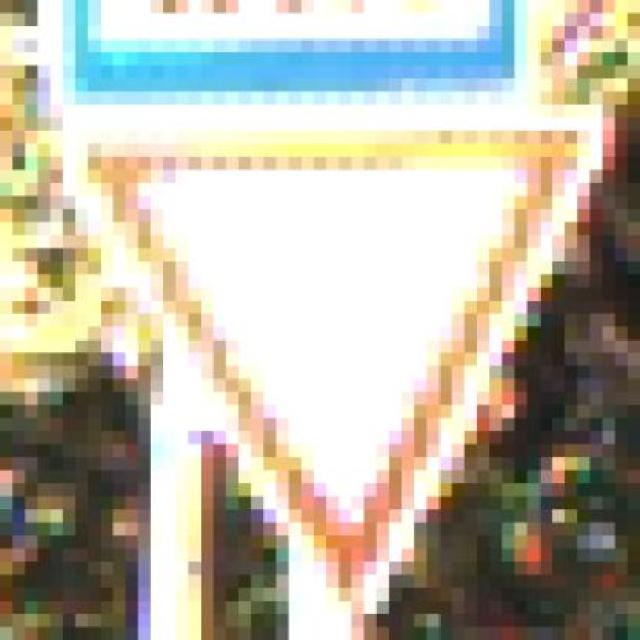Give Way: (67, 116, 619, 638)
